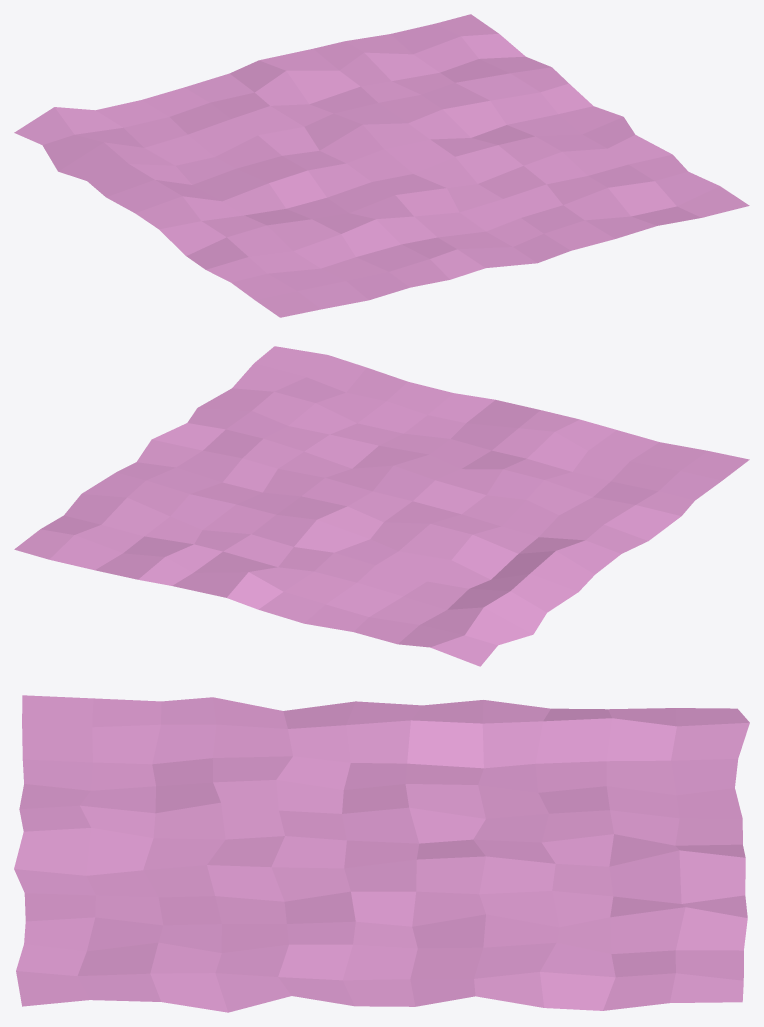
File: DreamWorld1.fbx
3 views of the same model, one above another, from view 1: azimuth 30°, elevation 25°; view 2: azimuth 150°, elevation 25°; view 3: azimuth 270°, elevation 25° (orthographic). The views are drawn at different scales.
Parts seen in each view (by area): view 1: Plane; view 2: Plane; view 3: Plane.
Part boxes in pixels (x1,y1,x2,y2): Plane: (14,14,749,317); Plane: (14,346,749,666); Plane: (14,695,749,1012).
Bounding box in the file's own units: 1082 × 1084 × 44.19.
